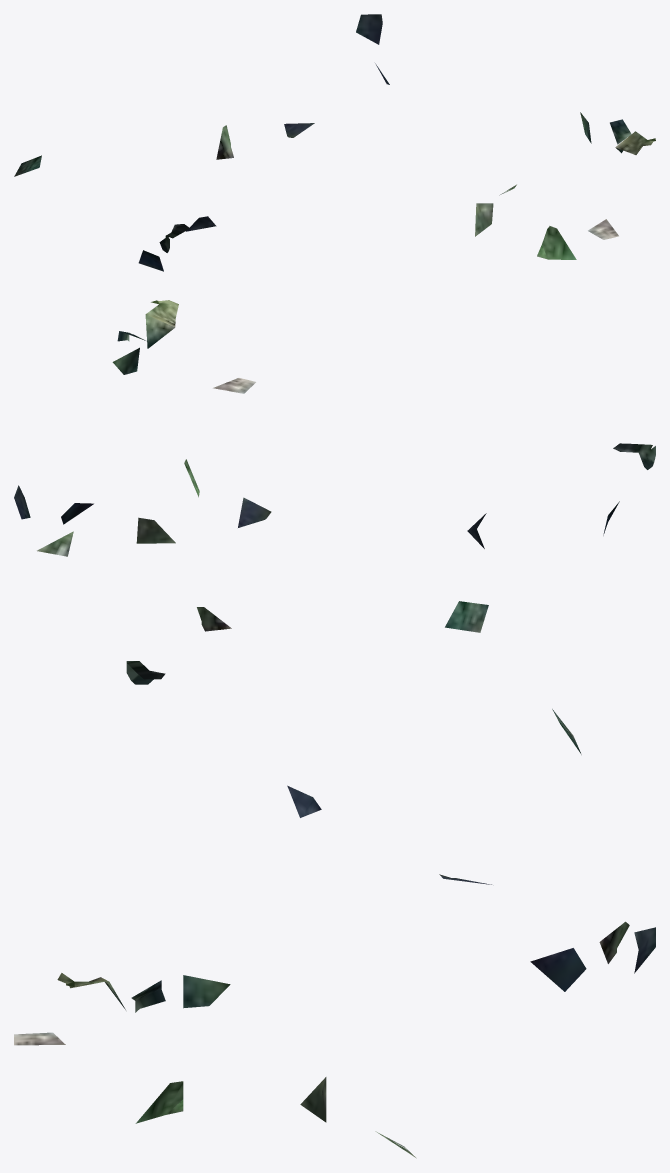
3 renders of one model, top to bottom at view 1: azimuth 30°, elevation 25°; view 2: azimuth 150°, elevation 25°; view 3: azimuth 270°, elevation 25°, orthographic. The views are drawn at different scales.
Parts seen in each view (by area): view 1: 30436272704370435430_1; view 2: 30436272704370435430_1; view 3: 30436272704370435430_1.
Boxes of the visible parts, x1,y1,x2,y2 form: 30436272704370435430_1: [14, 14, 655, 271]; 30436272704370435430_1: [14, 300, 655, 632]; 30436272704370435430_1: [14, 661, 655, 1158].
Size of the model in its own units: 27.47 by 7.4 by 22.83.
1 material, 1 textured.
